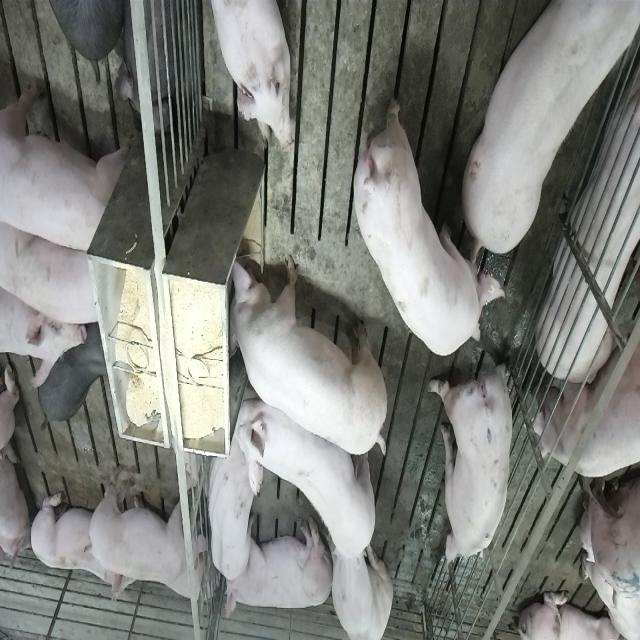Feeding: (220, 245, 385, 462)
Lateral_lying: (539, 31, 640, 386), (222, 514, 334, 620)
Sitting: (328, 527, 394, 639)
Standing: (465, 0, 640, 256), (348, 90, 502, 353), (242, 383, 381, 562), (2, 77, 128, 253), (430, 347, 514, 569), (534, 322, 640, 478), (86, 458, 212, 588), (2, 210, 112, 332)
Sternal_lying: (204, 0, 292, 153), (30, 487, 130, 609)
